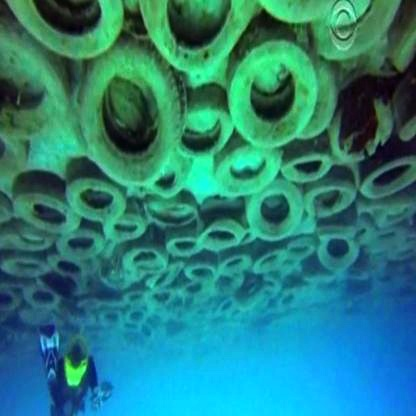tire: (70, 42, 185, 172), (224, 41, 317, 139), (5, 1, 128, 58), (136, 1, 249, 51), (183, 74, 242, 167), (8, 168, 74, 236), (62, 161, 127, 226), (326, 96, 388, 162), (210, 144, 277, 202), (247, 176, 301, 241), (355, 148, 415, 200), (299, 173, 359, 210), (47, 248, 94, 289), (149, 191, 199, 229), (56, 221, 105, 258), (317, 224, 356, 265), (105, 205, 148, 242), (159, 232, 202, 267), (2, 251, 48, 283), (201, 219, 247, 250), (281, 153, 330, 182), (126, 241, 170, 273), (22, 279, 62, 312), (5, 221, 44, 254), (221, 243, 253, 275), (3, 284, 25, 322), (283, 232, 319, 254), (125, 306, 151, 335), (93, 301, 121, 327), (256, 247, 285, 272), (184, 265, 220, 285)
